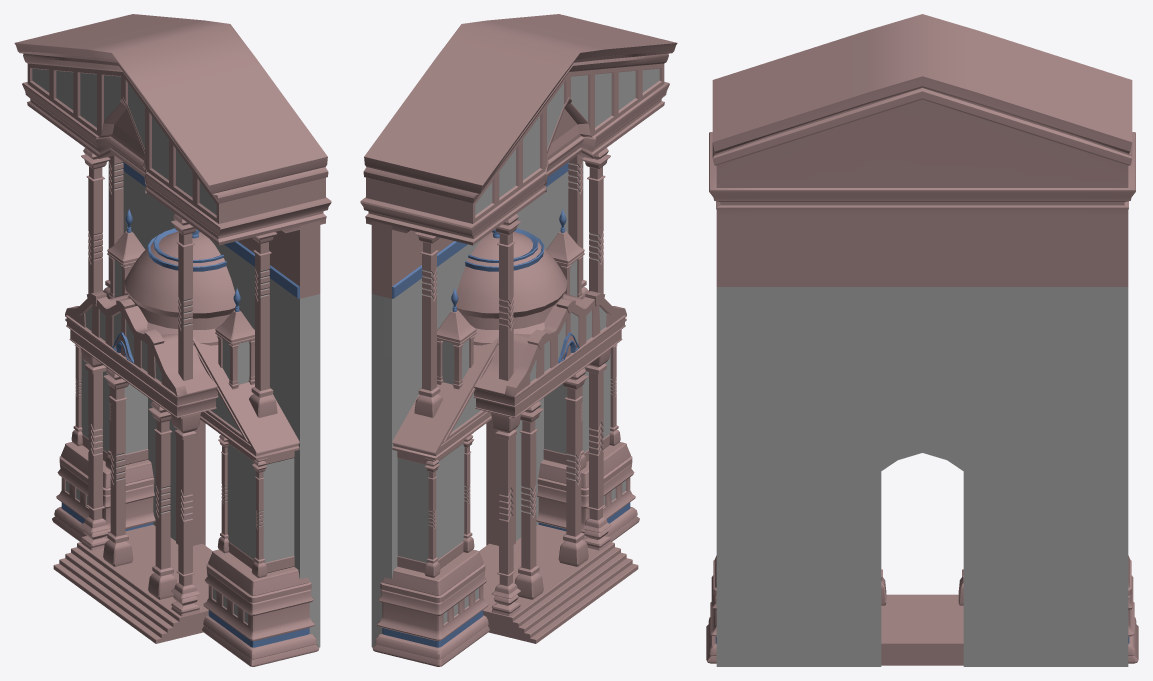
The model's file is SM_Entrance_fixed.fbx.
The picture shows the model from 3 angles, left to right: view 1: azimuth 30°, elevation 25°; view 2: azimuth 150°, elevation 25°; view 3: azimuth 270°, elevation 25°; orthographic projection. The views are drawn at different scales.
Visible parts, largest first — view 1: SM_Entrance; view 2: SM_Entrance; view 3: SM_Entrance.
Boxes of the visible parts, <box> form: SM_Entrance: <box>14,14,331,666</box>; SM_Entrance: <box>360,14,677,666</box>; SM_Entrance: <box>706,14,1138,666</box>.
Bounding box in the file's own units: 655 × 2707 × 1787.
